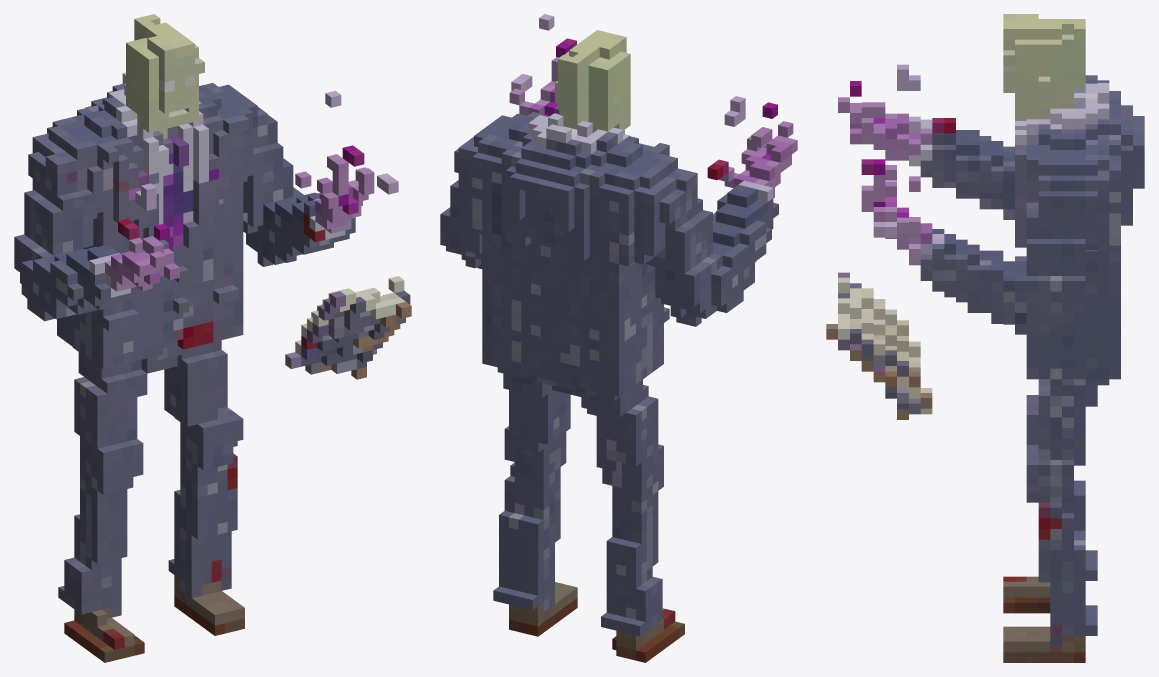
Rendered from necromancer.rigged.glb.
The picture shows the model from 3 angles, left to right: view 1: azimuth 30°, elevation 25°; view 2: azimuth 150°, elevation 25°; view 3: azimuth 270°, elevation 25°; orthographic projection. The views are drawn at different scales.
Parts seen in each view (by area): view 1: torso, armL_fore, armR_fore, legR_thigh, legL_shin, armR_upper, legL_thigh, legR_shin, head, footR, armL_upper, footL (+1 smaller); view 2: torso, armR_fore, legL_shin, legR_thigh, legR_shin, head, legL_thigh, footR, footL, armR_upper, armL_fore, armL_upper; view 3: torso, armL_fore, armR_fore, legL_thigh, head, armL_upper, legL_shin, footL, footR, legR_shin, legR_thigh.
Boxes of the visible parts, box(x1,y1,x2,y2) form: torso: box(14, 72, 341, 346); armL_fore: box(253, 145, 411, 379); armR_fore: box(21, 183, 179, 320); legR_thigh: box(68, 310, 157, 463); legL_shin: box(174, 424, 243, 566); armR_upper: box(34, 132, 128, 232); legL_thigh: box(164, 282, 243, 444); legR_shin: box(64, 436, 143, 588); head: box(126, 14, 204, 117); footR: box(58, 571, 144, 662); armL_upper: box(221, 89, 293, 195); footL: box(168, 544, 244, 635); torso: box(440, 14, 737, 400); armR_fore: box(696, 96, 797, 304); legL_shin: box(499, 432, 566, 581); legR_thigh: box(581, 317, 663, 480); legR_shin: box(602, 456, 663, 601); head: box(555, 30, 630, 118); legL_thigh: box(503, 373, 570, 458); footR: box(601, 589, 684, 662); footL: box(493, 566, 577, 636); armR_upper: box(638, 143, 712, 244); armL_fore: box(509, 38, 576, 115); armL_upper: box(454, 112, 542, 182); torso: box(909, 75, 1144, 379); armL_fore: box(826, 159, 1061, 419); armR_fore: box(838, 64, 1014, 209); legL_thigh: box(1026, 335, 1109, 475); head: box(1003, 14, 1085, 97); armL_upper: box(1015, 150, 1097, 254); legL_shin: box(1026, 475, 1085, 614); footL: box(1003, 604, 1097, 662); footR: box(1003, 550, 1097, 613); legR_shin: box(1026, 436, 1085, 530); legR_thigh: box(1026, 395, 1038, 436).
Bounding box in the file's own units: 1.02 × 2 × 0.9474.
